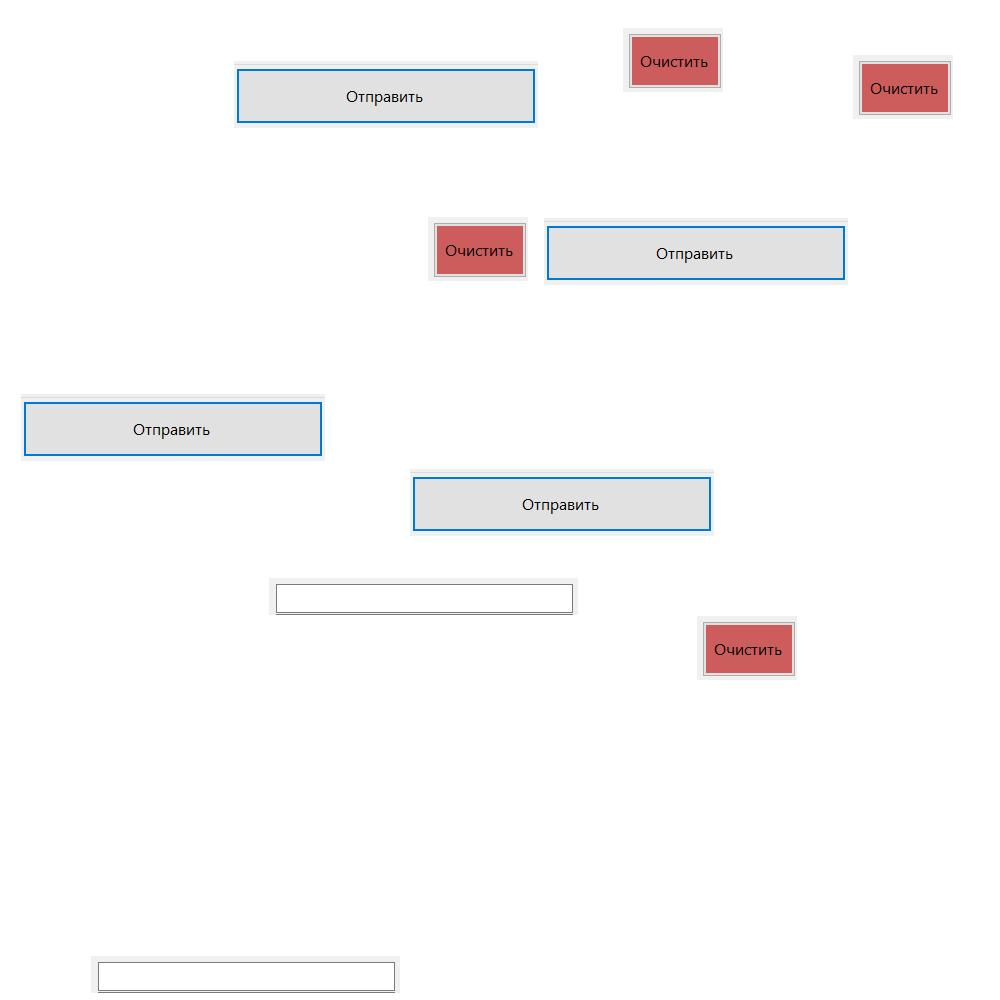Button: (544, 218, 848, 285), (410, 469, 714, 536), (21, 394, 325, 461), (234, 61, 538, 128), (697, 616, 797, 680), (623, 28, 723, 92), (853, 55, 953, 119), (428, 217, 528, 281)
EditText-: (91, 956, 400, 993), (269, 578, 578, 615)
